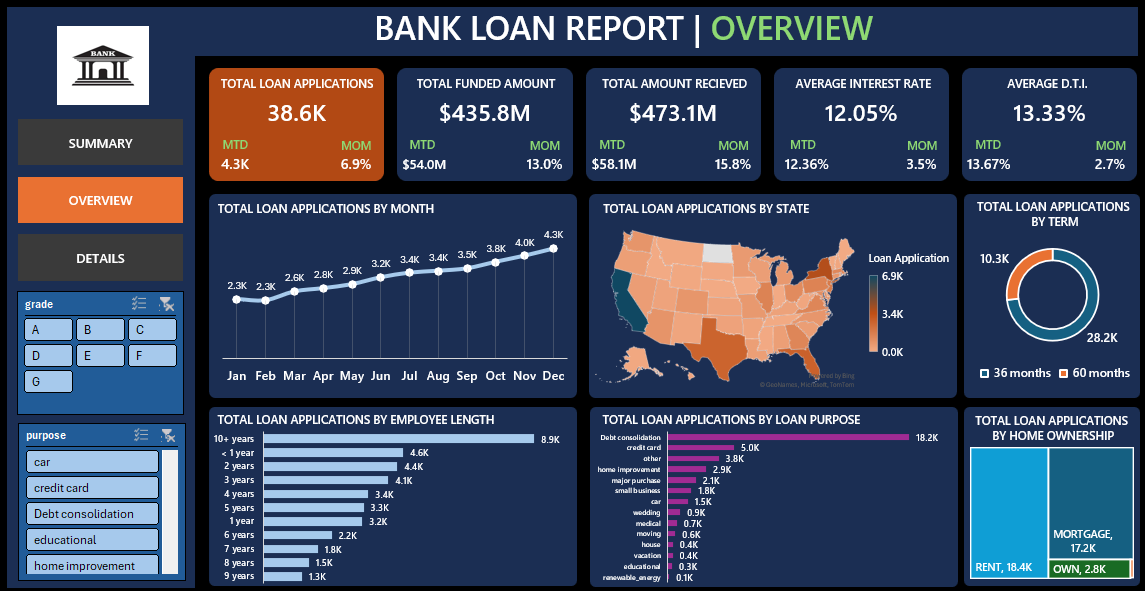

Layout of this report page (visuals, bound fields, positions):
{"tool":"tableau","page":{"name":"OVERVIEW","canvas":[1600,900],"ordinal":1},"visuals":[{"type":"image","param":"C:/Users/Admin/Desktop/SQL_Projects/Bank Loan Analysis/Tableau Background 2.jpg","box":[8,8,1584,884]},{"type":"text","box":[566,11,627,74]},{"type":"image","param":"C:/Users/Admin/Desktop/SQL_Projects/Bank Loan Analysis/bank_logo.jpg","box":[40,83,190,112]},{"type":"worksheet","title":"AVERAGE D.T.I.","mark":"Automatic","box":[1321,97,247,90]},{"type":"worksheet","title":"Total Loan Applications","mark":"Automatic","box":[265,98,245,86]},{"type":"worksheet","title":"TOTAL FUNDED AMOUNT","mark":"Automatic","box":[525,98,249,86]},{"type":"worksheet","title":"TOTAL AMOUNT RECEIVED","mark":"Automatic","box":[791,98,249,87]},{"type":"worksheet","title":"AVERAGE INTEREST RATE","mark":"Automatic","box":[1056,98,249,88]},{"type":"text","box":[249,184,100,30]},{"type":"text","box":[421,184,100,30]},{"type":"text","box":[509,184,100,30]},{"type":"text","box":[690,184,100,30]},{"type":"text","box":[774,184,100,30]},{"type":"text","box":[1221,184,100,30]},{"type":"text","box":[959,185,100,30]},{"type":"text","box":[1038,185,100,30]},{"type":"text","box":[1308,185,100,30]},{"type":"text","box":[1483,185,100,30]},{"type":"worksheet","title":"MOM Loan Application","mark":"Automatic","box":[430,200,86,46]},{"type":"worksheet","title":"MTD Average D.T.I","mark":"Automatic","box":[1319,200,80,47]},{"type":"worksheet","title":"MTD Average Interest Rate","mark":"Automatic","box":[1057,201,66,45]},{"type":"worksheet","title":"MTD Total Loan Applications","mark":"Automatic","box":[245,202,105,41]},{"type":"worksheet","title":"MTD Total Amount Recieved","mark":"Automatic","box":[792,202,63,42]},{"type":"worksheet","title":"MTD Total Funded Amount","mark":"Automatic","box":[527,204,66,40]},{"type":"worksheet","title":"MOM Average Interest Rate","mark":"Automatic","box":[1237,204,71,39]},{"type":"worksheet","title":"MOM Average D.T.I.","mark":"Automatic","box":[1497,204,75,40]},{"type":"worksheet","title":"MOM Total Amount Recieved","mark":"Automatic","box":[971,207,76,36]},{"type":"worksheet","title":"MOM Total Funded Amount","mark":"Automatic","box":[709,208,65,34]},{"type":"dashboard-object","box":[48,232,180,52]},{"type":"worksheet","title":"Monthly Trends By States  ","mark":"Multipolygon","box":[770,265,456,293]},{"type":"worksheet","title":"Loan Term Analysis","mark":"Pie","rows":["Calculation_300615298952728611","Calculation_300615298952728611"],"box":[1243,266,328,298]},{"type":"worksheet","title":"Monthly Trends By Issue Date","mark":"Area","rows":["Calculation_300615298907029537","Calculation_300615298907029537"],"cols":["issue_date"],"box":[263,267,489,293]},{"type":"legend","title":"Loan Term Analysis","param":"[federated.0acb2y31ccfgxm1fxwtr7176igtj].[none:term:nk]","box":[1299,300,242,27]},{"type":"dashboard-object","box":[48,310,180,52]},{"type":"dashboard-object","box":[48,385,180,52]},{"type":"parameter","param":"[Parameters].[Parameter 1]","box":[47,471,180,68]},{"type":"filter","title":"AVERAGE D.T.I.","param":"[federated.0acb2y31ccfgxm1fxwtr7176igtj].[none:purpose:nk]","box":[48,573,180,68]},{"type":"worksheet","title":"Loan Purpose Analysis","mark":"Automatic","rows":["purpose"],"cols":["Calculation_300615298907029537"],"box":[768,579,469,300]},{"type":"worksheet","title":"Home Ownership Analysis","mark":"Automatic","box":[1244,579,325,301]},{"type":"worksheet","title":"Employee Length Analysis","mark":"Automatic","rows":["emp_length"],"cols":["Calculation_300615298907029537"],"box":[263,580,489,299]},{"type":"filter","title":"AVERAGE D.T.I.","param":"[federated.0acb2y31ccfgxm1fxwtr7176igtj].[none:grade:nk]","box":[47,674,180,68]},{"type":"filter","title":"AVERAGE D.T.I.","param":"[federated.0acb2y31ccfgxm1fxwtr7176igtj].[none:verification_status:nk]","box":[47,779,180,68]}]}

Visuals, with their boxes on the page's 1600x900 design canvas (x1, y1, x2, y2). These are canvas units, not pixel positions in the 1145x591 screenshot, which may show the page scaled, cropped or inside an application window:
image: x1=8, y1=8, x2=1592, y2=892
text: x1=566, y1=11, x2=1193, y2=85
image: x1=40, y1=83, x2=230, y2=195
"AVERAGE D.T.I." worksheet: x1=1321, y1=97, x2=1568, y2=187
"Total Loan Applications" worksheet: x1=265, y1=98, x2=510, y2=184
"TOTAL FUNDED AMOUNT" worksheet: x1=525, y1=98, x2=774, y2=184
"TOTAL AMOUNT RECEIVED" worksheet: x1=791, y1=98, x2=1040, y2=185
"AVERAGE INTEREST RATE" worksheet: x1=1056, y1=98, x2=1305, y2=186
text: x1=249, y1=184, x2=349, y2=214
text: x1=421, y1=184, x2=521, y2=214
text: x1=509, y1=184, x2=609, y2=214
text: x1=690, y1=184, x2=790, y2=214
text: x1=774, y1=184, x2=874, y2=214
text: x1=1221, y1=184, x2=1321, y2=214
text: x1=959, y1=185, x2=1059, y2=215
text: x1=1038, y1=185, x2=1138, y2=215
text: x1=1308, y1=185, x2=1408, y2=215
text: x1=1483, y1=185, x2=1583, y2=215
"MOM Loan Application" worksheet: x1=430, y1=200, x2=516, y2=246
"MTD Average D.T.I" worksheet: x1=1319, y1=200, x2=1399, y2=247
"MTD Average Interest Rate" worksheet: x1=1057, y1=201, x2=1123, y2=246
"MTD Total Loan Applications" worksheet: x1=245, y1=202, x2=350, y2=243
"MTD Total Amount Recieved" worksheet: x1=792, y1=202, x2=855, y2=244
"MTD Total Funded Amount" worksheet: x1=527, y1=204, x2=593, y2=244
"MOM Average Interest Rate" worksheet: x1=1237, y1=204, x2=1308, y2=243
"MOM Average D.T.I." worksheet: x1=1497, y1=204, x2=1572, y2=244
"MOM Total Amount Recieved" worksheet: x1=971, y1=207, x2=1047, y2=243
"MOM Total Funded Amount" worksheet: x1=709, y1=208, x2=774, y2=242
dashboard-object: x1=48, y1=232, x2=228, y2=284
"Monthly Trends By States  " worksheet (Multipolygon marks): x1=770, y1=265, x2=1226, y2=558
"Loan Term Analysis" worksheet (Pie marks): x1=1243, y1=266, x2=1571, y2=564
"Monthly Trends By Issue Date" worksheet (Area marks): x1=263, y1=267, x2=752, y2=560
"Loan Term Analysis" legend: x1=1299, y1=300, x2=1541, y2=327
dashboard-object: x1=48, y1=310, x2=228, y2=362
dashboard-object: x1=48, y1=385, x2=228, y2=437
parameter: x1=47, y1=471, x2=227, y2=539
"AVERAGE D.T.I." filter: x1=48, y1=573, x2=228, y2=641
"Loan Purpose Analysis" worksheet: x1=768, y1=579, x2=1237, y2=879
"Home Ownership Analysis" worksheet: x1=1244, y1=579, x2=1569, y2=880
"Employee Length Analysis" worksheet: x1=263, y1=580, x2=752, y2=879
"AVERAGE D.T.I." filter: x1=47, y1=674, x2=227, y2=742
"AVERAGE D.T.I." filter: x1=47, y1=779, x2=227, y2=847
